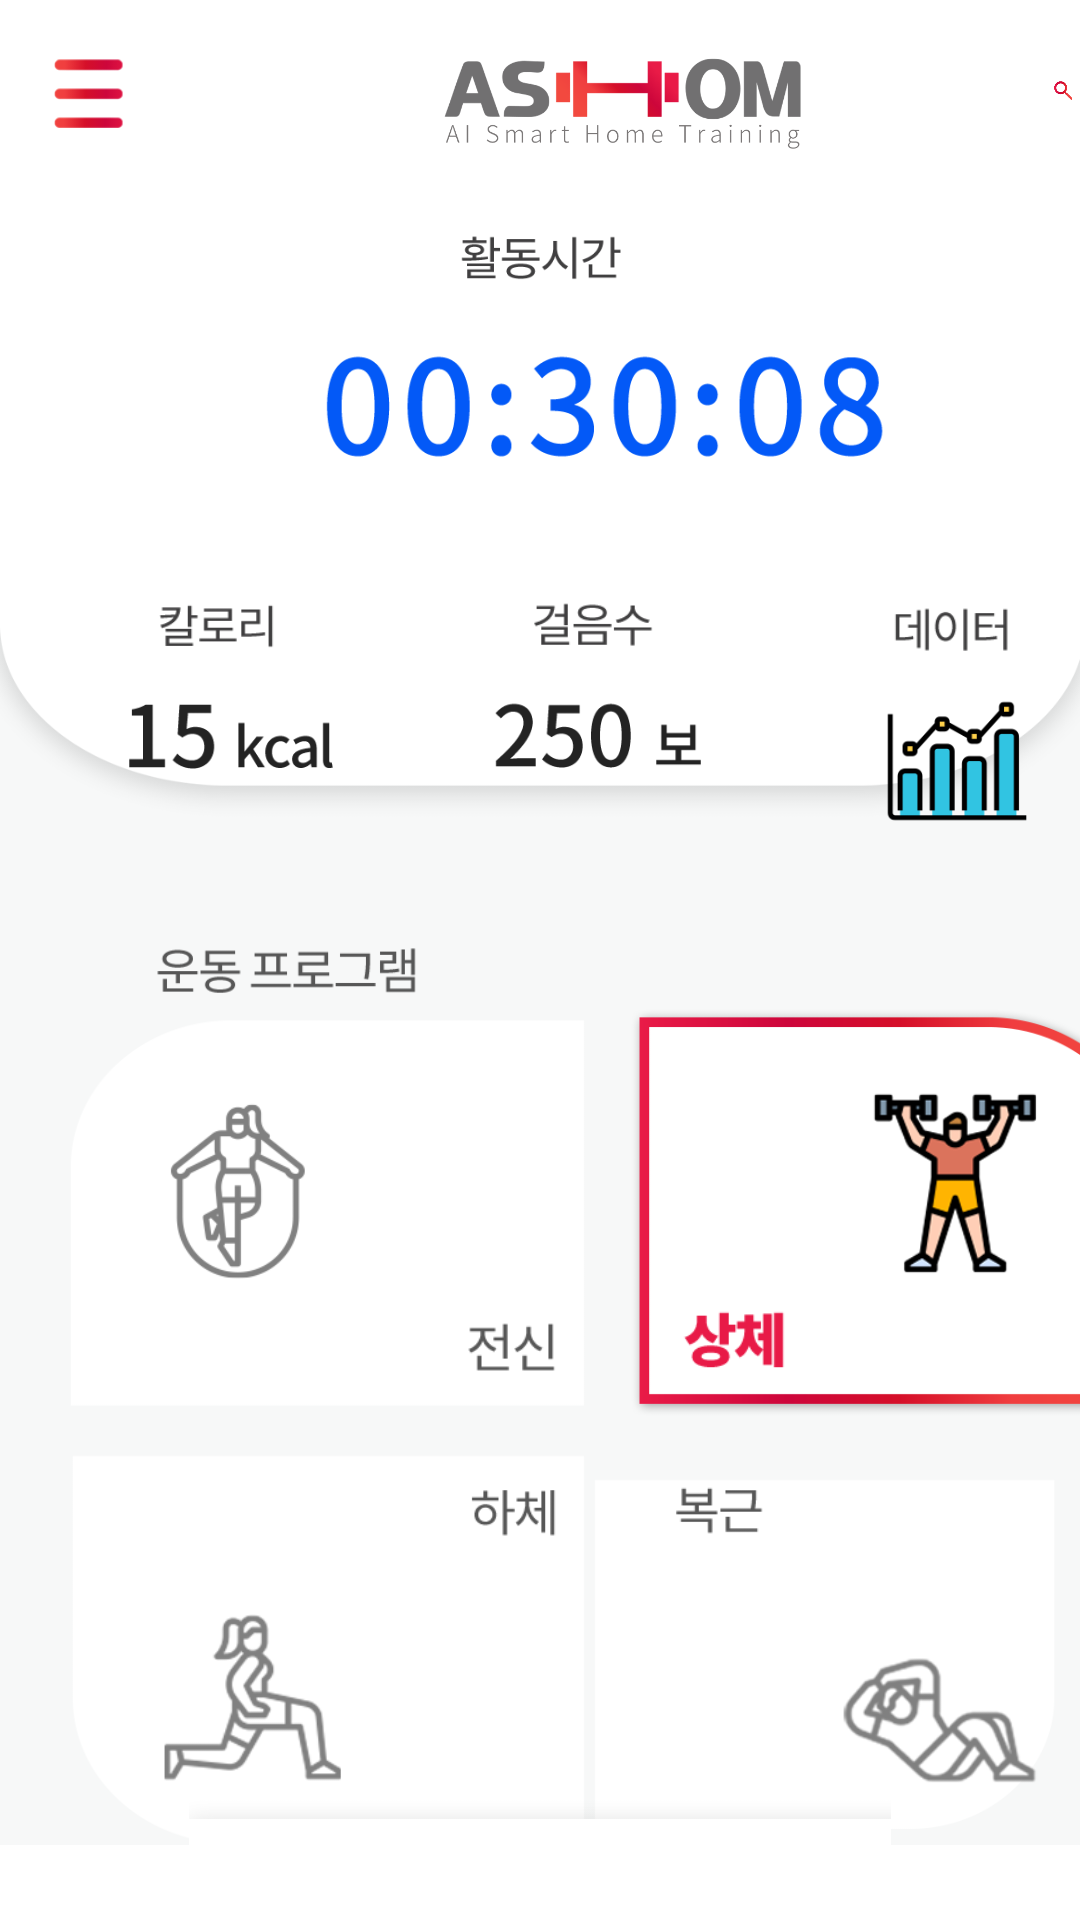

Where to tap for icons on this 1080w x 1920h app screen, as [x,y]:
triple: [88,93]
